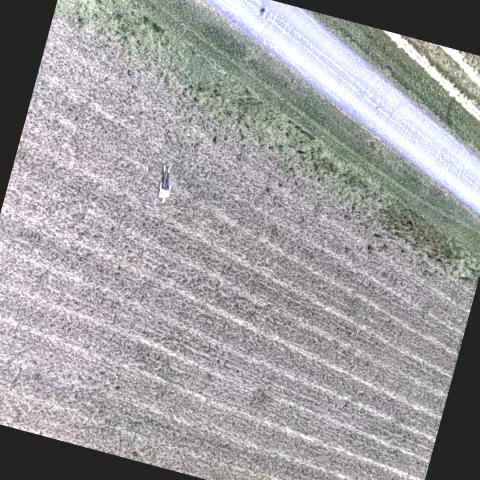person: (148, 158, 180, 204)
